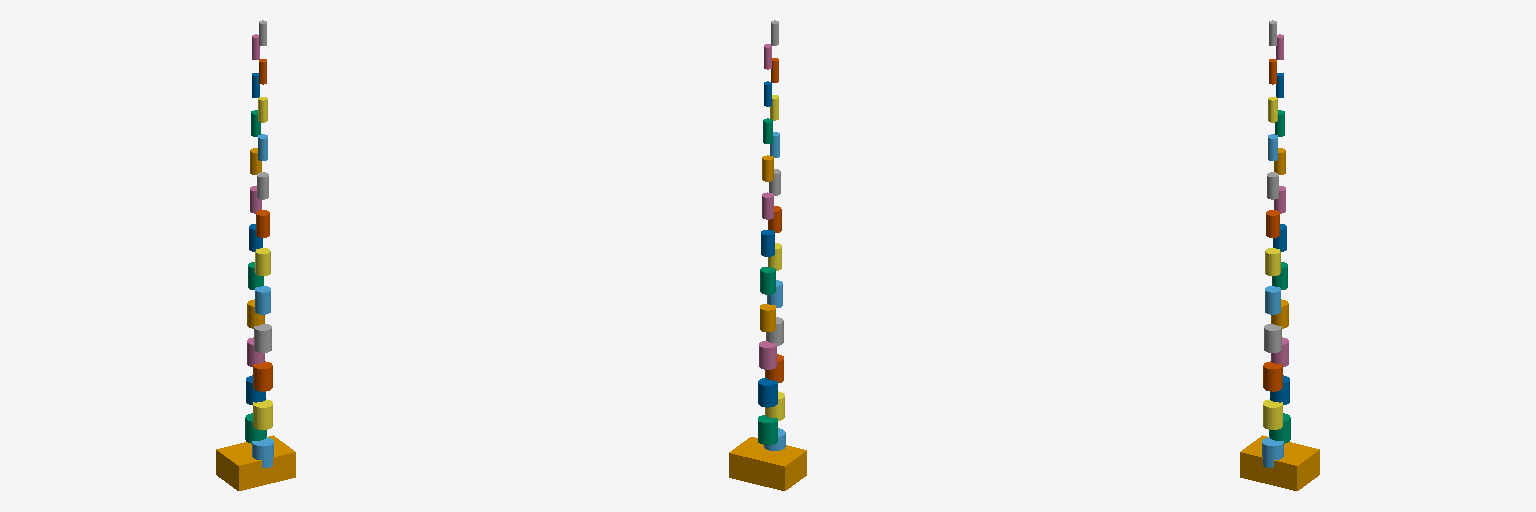
The robot description file, URDF, robot "sigmaban_urdf":
<?xml version="1.0" encoding="utf-8"?>
<!-- LOCAL_GENERATED_DEMONSTRATION_NOT_UPSTREAM: 历史本地生成的示意链，非原厂/上游原件；不可用于真实结构或控制验证。真实来源请从档案目录选择 PRIMARY 文件。 -->
<!-- =================================================================================== -->
<!-- 历史生成示意（非上游原件）: sigmaban_urdf (robot.urdf)                                          -->
<!-- 机型描述: Rhoban Sigmaban 双足足球人形机器人 URDF 基准                                                                   -->
<!-- 历史目录机型统计（并非本示意链）: 27 连杆 / 26 关节                                                    -->
<!-- =================================================================================== -->
<robot name="sigmaban_urdf">
  <link name="base_link">
    <inertial>
      <origin xyz="0 0 0.08" rpy="0 0 0"/>
      <mass value="16.40"/>
      <inertia ixx="0.185" ixy="0.0" ixz="0.0" iyy="0.240" iyz="0.0" izz="0.295"/>
    </inertial>
    <visual>
      <origin xyz="0 0 0.08" rpy="0 0 0"/>
      <geometry><box size="0.38 0.26 0.16"/></geometry>
    </visual>
    <collision>
      <origin xyz="0 0 0.08" rpy="0 0 0"/>
      <geometry><box size="0.38 0.26 0.16"/></geometry>
    </collision>
  </link>

  <link name="link_1">
    <inertial>
      <origin xyz="0 0 0.06" rpy="0 0 0"/>
      <mass value="3.200"/>
      <inertia ixx="0.014" ixy="0.0" ixz="0.0" iyy="0.014" iyz="0.0" izz="0.008"/>
    </inertial>
    <visual>
      <origin xyz="0 0 0.06" rpy="0 0 0"/>
      <geometry><cylinder radius="0.063" length="0.14"/></geometry>
    </visual>
  </link>
  <joint name="joint_1" type="revolute">
    <parent link="base_link"/>
    <child link="link_1"/>
    <origin xyz="0 -0.080 0.12" rpy="0 0 0"/>
    <axis xyz="1 0 0"/>
    <limit lower="-2.7925" upper="2.7925" effort="85.0" velocity="6.28"/>
  </joint>

  <link name="link_2">
    <inertial>
      <origin xyz="0 0 0.06" rpy="0 0 0"/>
      <mass value="2.263"/>
      <inertia ixx="0.014" ixy="0.0" ixz="0.0" iyy="0.014" iyz="0.0" izz="0.008"/>
    </inertial>
    <visual>
      <origin xyz="0 0 0.06" rpy="0 0 0"/>
      <geometry><cylinder radius="0.061" length="0.14"/></geometry>
    </visual>
  </link>
  <joint name="joint_2" type="revolute">
    <parent link="link_1"/>
    <child link="link_2"/>
    <origin xyz="0 0.080 0.12" rpy="0 0 0"/>
    <axis xyz="0 1 0"/>
    <limit lower="-2.7925" upper="2.7925" effort="85.0" velocity="6.28"/>
  </joint>

  <link name="link_3">
    <inertial>
      <origin xyz="0 0 0.06" rpy="0 0 0"/>
      <mass value="1.848"/>
      <inertia ixx="0.014" ixy="0.0" ixz="0.0" iyy="0.014" iyz="0.0" izz="0.008"/>
    </inertial>
    <visual>
      <origin xyz="0 0 0.06" rpy="0 0 0"/>
      <geometry><cylinder radius="0.059" length="0.14"/></geometry>
    </visual>
  </link>
  <joint name="joint_3" type="revolute">
    <parent link="link_2"/>
    <child link="link_3"/>
    <origin xyz="0 -0.080 0.12" rpy="0 0 0"/>
    <axis xyz="0 0 1"/>
    <limit lower="-2.7925" upper="2.7925" effort="85.0" velocity="6.28"/>
  </joint>

  <link name="link_4">
    <inertial>
      <origin xyz="0 0 0.06" rpy="0 0 0"/>
      <mass value="1.600"/>
      <inertia ixx="0.014" ixy="0.0" ixz="0.0" iyy="0.014" iyz="0.0" izz="0.008"/>
    </inertial>
    <visual>
      <origin xyz="0 0 0.06" rpy="0 0 0"/>
      <geometry><cylinder radius="0.057" length="0.14"/></geometry>
    </visual>
  </link>
  <joint name="joint_4" type="revolute">
    <parent link="link_3"/>
    <child link="link_4"/>
    <origin xyz="0 0.080 0.12" rpy="0 0 0"/>
    <axis xyz="0 1 0"/>
    <limit lower="-2.7925" upper="2.7925" effort="85.0" velocity="6.28"/>
  </joint>

  <link name="link_5">
    <inertial>
      <origin xyz="0 0 0.06" rpy="0 0 0"/>
      <mass value="1.431"/>
      <inertia ixx="0.014" ixy="0.0" ixz="0.0" iyy="0.014" iyz="0.0" izz="0.008"/>
    </inertial>
    <visual>
      <origin xyz="0 0 0.06" rpy="0 0 0"/>
      <geometry><cylinder radius="0.055" length="0.14"/></geometry>
    </visual>
  </link>
  <joint name="joint_5" type="revolute">
    <parent link="link_4"/>
    <child link="link_5"/>
    <origin xyz="0 -0.080 0.12" rpy="0 0 0"/>
    <axis xyz="1 0 0"/>
    <limit lower="-2.7925" upper="2.7925" effort="85.0" velocity="6.28"/>
  </joint>

  <link name="link_6">
    <inertial>
      <origin xyz="0 0 0.06" rpy="0 0 0"/>
      <mass value="1.306"/>
      <inertia ixx="0.014" ixy="0.0" ixz="0.0" iyy="0.014" iyz="0.0" izz="0.008"/>
    </inertial>
    <visual>
      <origin xyz="0 0 0.06" rpy="0 0 0"/>
      <geometry><cylinder radius="0.053" length="0.14"/></geometry>
    </visual>
  </link>
  <joint name="joint_6" type="revolute">
    <parent link="link_5"/>
    <child link="link_6"/>
    <origin xyz="0 0.080 0.12" rpy="0 0 0"/>
    <axis xyz="0 0 1"/>
    <limit lower="-2.7925" upper="2.7925" effort="85.0" velocity="6.28"/>
  </joint>

  <link name="link_7">
    <inertial>
      <origin xyz="0 0 0.06" rpy="0 0 0"/>
      <mass value="1.209"/>
      <inertia ixx="0.014" ixy="0.0" ixz="0.0" iyy="0.014" iyz="0.0" izz="0.008"/>
    </inertial>
    <visual>
      <origin xyz="0 0 0.06" rpy="0 0 0"/>
      <geometry><cylinder radius="0.051" length="0.14"/></geometry>
    </visual>
  </link>
  <joint name="joint_7" type="revolute">
    <parent link="link_6"/>
    <child link="link_7"/>
    <origin xyz="0 -0.080 0.12" rpy="0 0 0"/>
    <axis xyz="1 0 0"/>
    <limit lower="-2.7925" upper="2.7925" effort="85.0" velocity="6.28"/>
  </joint>

  <link name="link_8">
    <inertial>
      <origin xyz="0 0 0.06" rpy="0 0 0"/>
      <mass value="1.131"/>
      <inertia ixx="0.014" ixy="0.0" ixz="0.0" iyy="0.014" iyz="0.0" izz="0.008"/>
    </inertial>
    <visual>
      <origin xyz="0 0 0.06" rpy="0 0 0"/>
      <geometry><cylinder radius="0.049" length="0.14"/></geometry>
    </visual>
  </link>
  <joint name="joint_8" type="revolute">
    <parent link="link_7"/>
    <child link="link_8"/>
    <origin xyz="0 0.080 0.12" rpy="0 0 0"/>
    <axis xyz="0 1 0"/>
    <limit lower="-2.7925" upper="2.7925" effort="85.0" velocity="6.28"/>
  </joint>

  <link name="link_9">
    <inertial>
      <origin xyz="0 0 0.06" rpy="0 0 0"/>
      <mass value="1.067"/>
      <inertia ixx="0.014" ixy="0.0" ixz="0.0" iyy="0.014" iyz="0.0" izz="0.008"/>
    </inertial>
    <visual>
      <origin xyz="0 0 0.06" rpy="0 0 0"/>
      <geometry><cylinder radius="0.047" length="0.14"/></geometry>
    </visual>
  </link>
  <joint name="joint_9" type="revolute">
    <parent link="link_8"/>
    <child link="link_9"/>
    <origin xyz="0 -0.080 0.12" rpy="0 0 0"/>
    <axis xyz="0 0 1"/>
    <limit lower="-2.7925" upper="2.7925" effort="85.0" velocity="6.28"/>
  </joint>

  <link name="link_10">
    <inertial>
      <origin xyz="0 0 0.06" rpy="0 0 0"/>
      <mass value="1.012"/>
      <inertia ixx="0.014" ixy="0.0" ixz="0.0" iyy="0.014" iyz="0.0" izz="0.008"/>
    </inertial>
    <visual>
      <origin xyz="0 0 0.06" rpy="0 0 0"/>
      <geometry><cylinder radius="0.045" length="0.14"/></geometry>
    </visual>
  </link>
  <joint name="joint_10" type="revolute">
    <parent link="link_9"/>
    <child link="link_10"/>
    <origin xyz="0 0.080 0.12" rpy="0 0 0"/>
    <axis xyz="0 1 0"/>
    <limit lower="-2.7925" upper="2.7925" effort="85.0" velocity="6.28"/>
  </joint>

  <link name="link_11">
    <inertial>
      <origin xyz="0 0 0.06" rpy="0 0 0"/>
      <mass value="0.965"/>
      <inertia ixx="0.014" ixy="0.0" ixz="0.0" iyy="0.014" iyz="0.0" izz="0.008"/>
    </inertial>
    <visual>
      <origin xyz="0 0 0.06" rpy="0 0 0"/>
      <geometry><cylinder radius="0.043" length="0.14"/></geometry>
    </visual>
  </link>
  <joint name="joint_11" type="revolute">
    <parent link="link_10"/>
    <child link="link_11"/>
    <origin xyz="0 -0.080 0.12" rpy="0 0 0"/>
    <axis xyz="1 0 0"/>
    <limit lower="-2.7925" upper="2.7925" effort="85.0" velocity="6.28"/>
  </joint>

  <link name="link_12">
    <inertial>
      <origin xyz="0 0 0.06" rpy="0 0 0"/>
      <mass value="0.924"/>
      <inertia ixx="0.014" ixy="0.0" ixz="0.0" iyy="0.014" iyz="0.0" izz="0.008"/>
    </inertial>
    <visual>
      <origin xyz="0 0 0.06" rpy="0 0 0"/>
      <geometry><cylinder radius="0.041" length="0.14"/></geometry>
    </visual>
  </link>
  <joint name="joint_12" type="revolute">
    <parent link="link_11"/>
    <child link="link_12"/>
    <origin xyz="0 0.080 0.12" rpy="0 0 0"/>
    <axis xyz="0 0 1"/>
    <limit lower="-2.7925" upper="2.7925" effort="85.0" velocity="6.28"/>
  </joint>

  <link name="link_13">
    <inertial>
      <origin xyz="0 0 0.06" rpy="0 0 0"/>
      <mass value="0.888"/>
      <inertia ixx="0.014" ixy="0.0" ixz="0.0" iyy="0.014" iyz="0.0" izz="0.008"/>
    </inertial>
    <visual>
      <origin xyz="0 0 0.06" rpy="0 0 0"/>
      <geometry><cylinder radius="0.039" length="0.14"/></geometry>
    </visual>
  </link>
  <joint name="joint_13" type="revolute">
    <parent link="link_12"/>
    <child link="link_13"/>
    <origin xyz="0 -0.080 0.12" rpy="0 0 0"/>
    <axis xyz="1 0 0"/>
    <limit lower="-2.7925" upper="2.7925" effort="85.0" velocity="6.28"/>
  </joint>

  <link name="link_14">
    <inertial>
      <origin xyz="0 0 0.06" rpy="0 0 0"/>
      <mass value="0.855"/>
      <inertia ixx="0.014" ixy="0.0" ixz="0.0" iyy="0.014" iyz="0.0" izz="0.008"/>
    </inertial>
    <visual>
      <origin xyz="0 0 0.06" rpy="0 0 0"/>
      <geometry><cylinder radius="0.037" length="0.14"/></geometry>
    </visual>
  </link>
  <joint name="joint_14" type="revolute">
    <parent link="link_13"/>
    <child link="link_14"/>
    <origin xyz="0 0.080 0.12" rpy="0 0 0"/>
    <axis xyz="0 1 0"/>
    <limit lower="-2.7925" upper="2.7925" effort="85.0" velocity="6.28"/>
  </joint>

  <link name="link_15">
    <inertial>
      <origin xyz="0 0 0.06" rpy="0 0 0"/>
      <mass value="0.826"/>
      <inertia ixx="0.014" ixy="0.0" ixz="0.0" iyy="0.014" iyz="0.0" izz="0.008"/>
    </inertial>
    <visual>
      <origin xyz="0 0 0.06" rpy="0 0 0"/>
      <geometry><cylinder radius="0.035" length="0.14"/></geometry>
    </visual>
  </link>
  <joint name="joint_15" type="revolute">
    <parent link="link_14"/>
    <child link="link_15"/>
    <origin xyz="0 -0.080 0.12" rpy="0 0 0"/>
    <axis xyz="0 0 1"/>
    <limit lower="-2.7925" upper="2.7925" effort="85.0" velocity="6.28"/>
  </joint>

  <link name="link_16">
    <inertial>
      <origin xyz="0 0 0.06" rpy="0 0 0"/>
      <mass value="0.800"/>
      <inertia ixx="0.014" ixy="0.0" ixz="0.0" iyy="0.014" iyz="0.0" izz="0.008"/>
    </inertial>
    <visual>
      <origin xyz="0 0 0.06" rpy="0 0 0"/>
      <geometry><cylinder radius="0.033" length="0.14"/></geometry>
    </visual>
  </link>
  <joint name="joint_16" type="revolute">
    <parent link="link_15"/>
    <child link="link_16"/>
    <origin xyz="0 0.080 0.12" rpy="0 0 0"/>
    <axis xyz="0 1 0"/>
    <limit lower="-2.7925" upper="2.7925" effort="85.0" velocity="6.28"/>
  </joint>

  <link name="link_17">
    <inertial>
      <origin xyz="0 0 0.06" rpy="0 0 0"/>
      <mass value="0.776"/>
      <inertia ixx="0.014" ixy="0.0" ixz="0.0" iyy="0.014" iyz="0.0" izz="0.008"/>
    </inertial>
    <visual>
      <origin xyz="0 0 0.06" rpy="0 0 0"/>
      <geometry><cylinder radius="0.031" length="0.14"/></geometry>
    </visual>
  </link>
  <joint name="joint_17" type="revolute">
    <parent link="link_16"/>
    <child link="link_17"/>
    <origin xyz="0 -0.080 0.12" rpy="0 0 0"/>
    <axis xyz="1 0 0"/>
    <limit lower="-2.7925" upper="2.7925" effort="85.0" velocity="6.28"/>
  </joint>

  <link name="link_18">
    <inertial>
      <origin xyz="0 0 0.06" rpy="0 0 0"/>
      <mass value="0.754"/>
      <inertia ixx="0.014" ixy="0.0" ixz="0.0" iyy="0.014" iyz="0.0" izz="0.008"/>
    </inertial>
    <visual>
      <origin xyz="0 0 0.06" rpy="0 0 0"/>
      <geometry><cylinder radius="0.029" length="0.14"/></geometry>
    </visual>
  </link>
  <joint name="joint_18" type="revolute">
    <parent link="link_17"/>
    <child link="link_18"/>
    <origin xyz="0 0.080 0.12" rpy="0 0 0"/>
    <axis xyz="0 0 1"/>
    <limit lower="-2.7925" upper="2.7925" effort="85.0" velocity="6.28"/>
  </joint>

  <link name="link_19">
    <inertial>
      <origin xyz="0 0 0.06" rpy="0 0 0"/>
      <mass value="0.734"/>
      <inertia ixx="0.014" ixy="0.0" ixz="0.0" iyy="0.014" iyz="0.0" izz="0.008"/>
    </inertial>
    <visual>
      <origin xyz="0 0 0.06" rpy="0 0 0"/>
      <geometry><cylinder radius="0.027" length="0.14"/></geometry>
    </visual>
  </link>
  <joint name="joint_19" type="revolute">
    <parent link="link_18"/>
    <child link="link_19"/>
    <origin xyz="0 -0.080 0.12" rpy="0 0 0"/>
    <axis xyz="1 0 0"/>
    <limit lower="-2.7925" upper="2.7925" effort="85.0" velocity="6.28"/>
  </joint>

  <link name="link_20">
    <inertial>
      <origin xyz="0 0 0.06" rpy="0 0 0"/>
      <mass value="0.716"/>
      <inertia ixx="0.014" ixy="0.0" ixz="0.0" iyy="0.014" iyz="0.0" izz="0.008"/>
    </inertial>
    <visual>
      <origin xyz="0 0 0.06" rpy="0 0 0"/>
      <geometry><cylinder radius="0.025" length="0.14"/></geometry>
    </visual>
  </link>
  <joint name="joint_20" type="revolute">
    <parent link="link_19"/>
    <child link="link_20"/>
    <origin xyz="0 0.080 0.12" rpy="0 0 0"/>
    <axis xyz="0 1 0"/>
    <limit lower="-2.7925" upper="2.7925" effort="85.0" velocity="6.28"/>
  </joint>

  <link name="link_21">
    <inertial>
      <origin xyz="0 0 0.06" rpy="0 0 0"/>
      <mass value="0.698"/>
      <inertia ixx="0.014" ixy="0.0" ixz="0.0" iyy="0.014" iyz="0.0" izz="0.008"/>
    </inertial>
    <visual>
      <origin xyz="0 0 0.06" rpy="0 0 0"/>
      <geometry><cylinder radius="0.025" length="0.14"/></geometry>
    </visual>
  </link>
  <joint name="joint_21" type="revolute">
    <parent link="link_20"/>
    <child link="link_21"/>
    <origin xyz="0 -0.080 0.12" rpy="0 0 0"/>
    <axis xyz="0 0 1"/>
    <limit lower="-2.7925" upper="2.7925" effort="85.0" velocity="6.28"/>
  </joint>

  <link name="link_22">
    <inertial>
      <origin xyz="0 0 0.06" rpy="0 0 0"/>
      <mass value="0.682"/>
      <inertia ixx="0.014" ixy="0.0" ixz="0.0" iyy="0.014" iyz="0.0" izz="0.008"/>
    </inertial>
    <visual>
      <origin xyz="0 0 0.06" rpy="0 0 0"/>
      <geometry><cylinder radius="0.025" length="0.14"/></geometry>
    </visual>
  </link>
  <joint name="joint_22" type="revolute">
    <parent link="link_21"/>
    <child link="link_22"/>
    <origin xyz="0 0.080 0.12" rpy="0 0 0"/>
    <axis xyz="0 1 0"/>
    <limit lower="-2.7925" upper="2.7925" effort="85.0" velocity="6.28"/>
  </joint>

  <link name="link_23">
    <inertial>
      <origin xyz="0 0 0.06" rpy="0 0 0"/>
      <mass value="0.667"/>
      <inertia ixx="0.014" ixy="0.0" ixz="0.0" iyy="0.014" iyz="0.0" izz="0.008"/>
    </inertial>
    <visual>
      <origin xyz="0 0 0.06" rpy="0 0 0"/>
      <geometry><cylinder radius="0.025" length="0.14"/></geometry>
    </visual>
  </link>
  <joint name="joint_23" type="revolute">
    <parent link="link_22"/>
    <child link="link_23"/>
    <origin xyz="0 -0.080 0.12" rpy="0 0 0"/>
    <axis xyz="1 0 0"/>
    <limit lower="-2.7925" upper="2.7925" effort="85.0" velocity="6.28"/>
  </joint>
</robot>

--- Facts derived from the render (not from the file) ---
3 views of the same robot in one strip: view 1: azimuth 30°, elevation 25°; view 2: azimuth 150°, elevation 25°; view 3: azimuth 330°, elevation 25° (orthographic).
Model sigmaban_urdf with 24 links and 23 joints (23 revolute), rooted at base_link, posed all joints at 0.
Links seen in each view (by area): view 1: base_link, link_3, link_5; view 2: base_link, link_2, link_4; view 3: base_link, link_3, link_5.
Link boxes in pixels (box(x1,y1,x2,y2)): base_link: box(216, 435, 295, 490); link_3: box(253, 399, 272, 429); link_5: box(253, 361, 272, 391); base_link: box(729, 437, 806, 490); link_2: box(758, 415, 777, 444); link_4: box(758, 378, 777, 407); base_link: box(1240, 435, 1319, 490); link_3: box(1263, 399, 1282, 429); link_5: box(1263, 361, 1282, 391).
Bounding box of the posed robot: 0.38 × 0.273 × 2.89 m (x, y, z).
Geometry: primitives only (box / cylinder / sphere), no mesh files.
